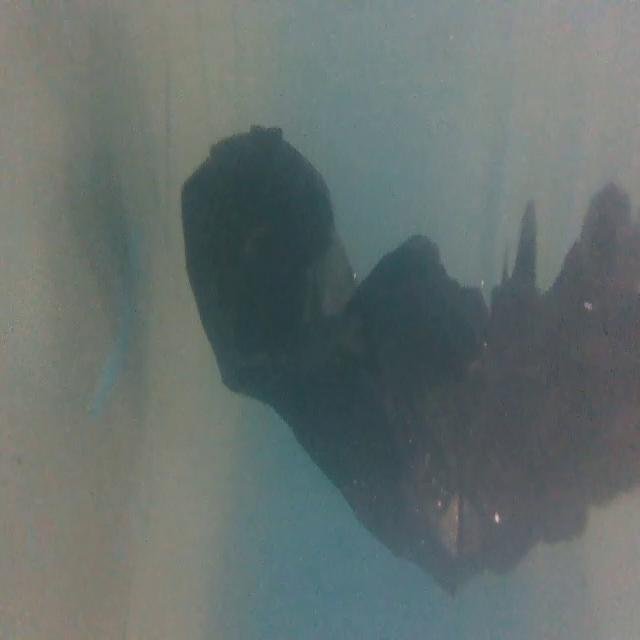plastic bags: (176, 120, 640, 602)
